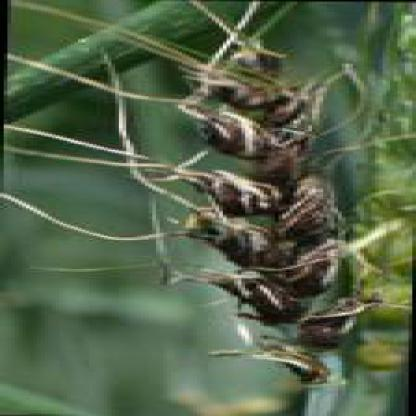Wheat Smut: (187, 69, 306, 144), (181, 168, 276, 206), (288, 187, 351, 240), (193, 215, 262, 258), (212, 272, 278, 310), (290, 309, 358, 343), (288, 352, 331, 380), (295, 266, 336, 293), (274, 244, 326, 260), (264, 150, 301, 164)
